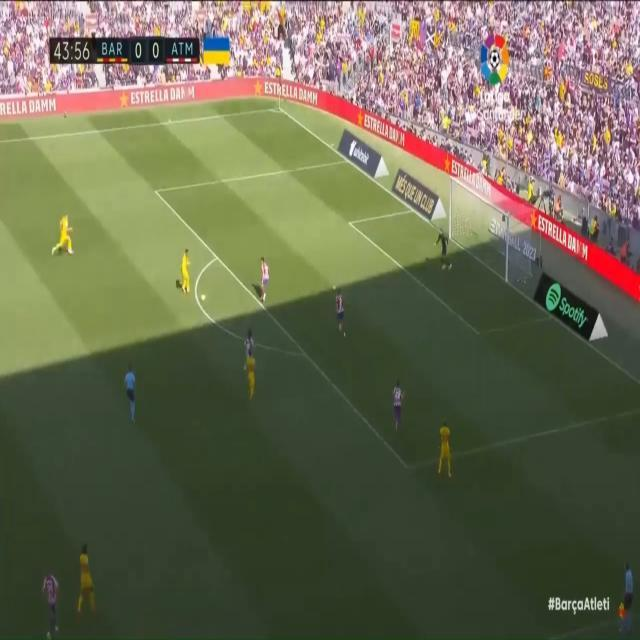ball: (197, 287, 213, 304)
goalkeeper: (434, 227, 456, 273)
player: (76, 542, 100, 617), (40, 561, 62, 639), (437, 418, 460, 485), (52, 208, 76, 264), (388, 383, 409, 441), (257, 245, 272, 301), (245, 350, 261, 401), (177, 246, 193, 292), (242, 331, 256, 380), (334, 287, 347, 338)
referee: (620, 553, 639, 630), (122, 367, 143, 421)
